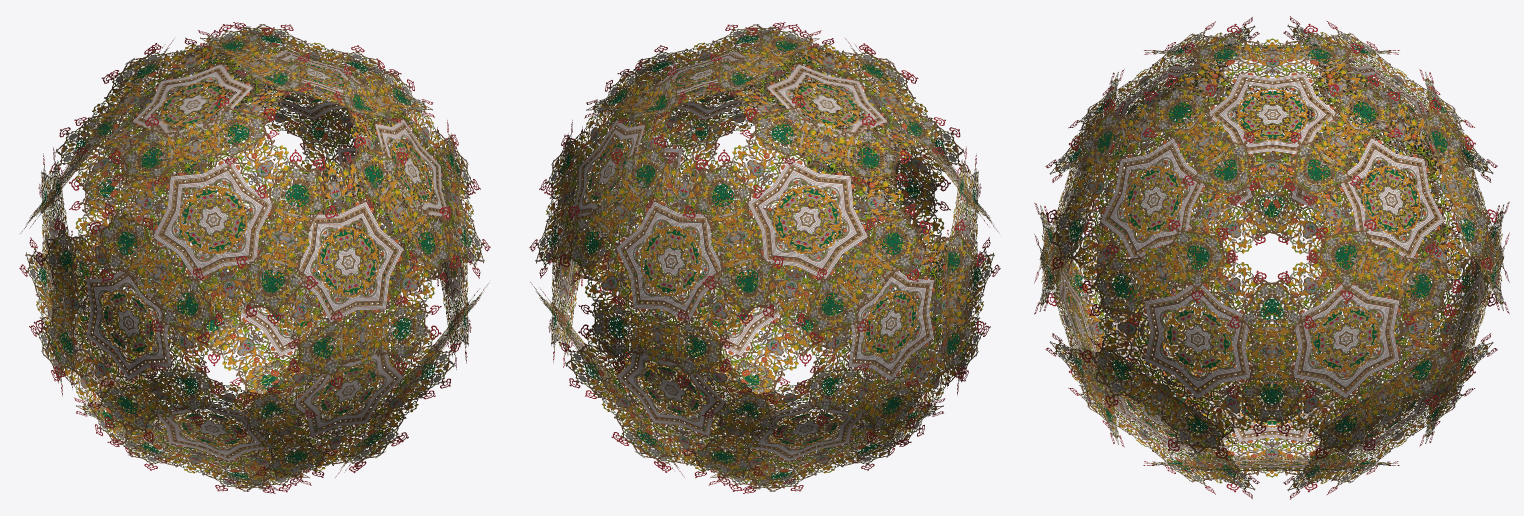
The model's file is SmallIcosicosidodecahedron7.gltf.
3 renders of one model, left to right at view 1: azimuth 30°, elevation 25°; view 2: azimuth 150°, elevation 25°; view 3: azimuth 270°, elevation 25°, orthographic. The views are drawn at different scales.
Parts seen in each view (by area): view 1: SmallIcosicosidodecahedron; view 2: SmallIcosicosidodecahedron; view 3: SmallIcosicosidodecahedron.
Boxes of the visible parts, x1=… form: SmallIcosicosidodecahedron: x1=19, y1=22, x2=490, y2=493; SmallIcosicosidodecahedron: x1=529, y1=22, x2=1000, y2=493; SmallIcosicosidodecahedron: x1=1034, y1=16, x2=1509, y2=499.
Bounding box in the file's own units: 3.24 × 3.24 × 3.24.
Materials: 1 (1 with a texture image).
